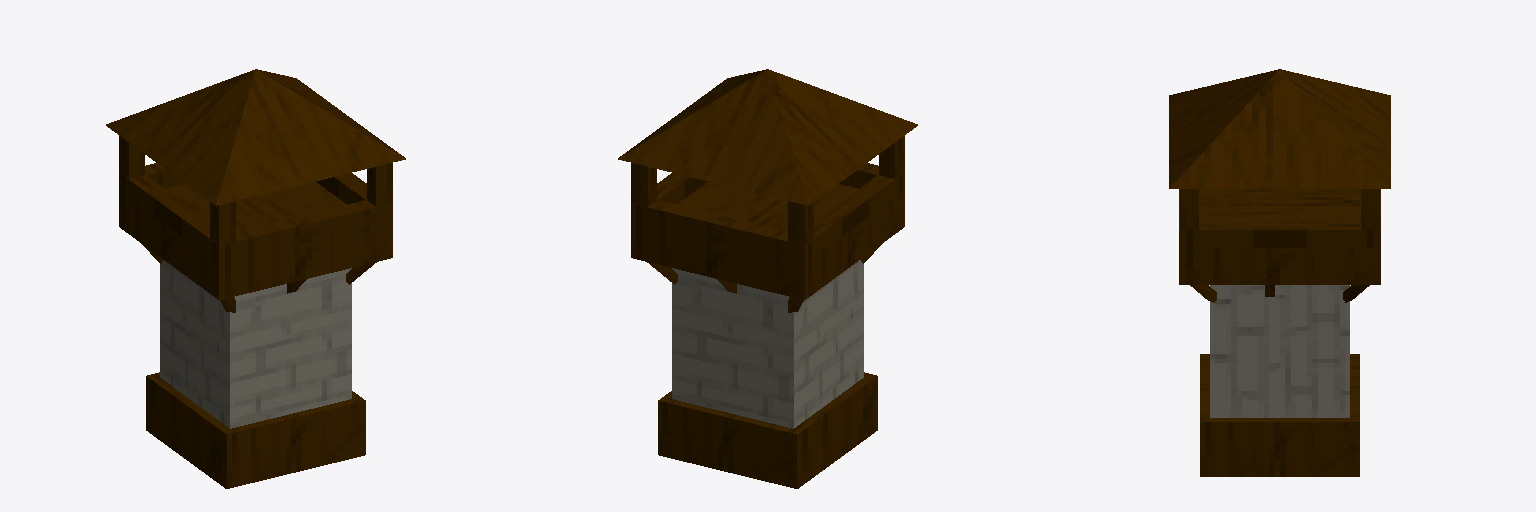
3 renders of one model, left to right at view 1: azimuth 30°, elevation 25°; view 2: azimuth 150°, elevation 25°; view 3: azimuth 270°, elevation 25°, orthographic.
Parts seen in each view (by area): view 1: cuboid, pyramid; view 2: cuboid, pyramid; view 3: cuboid, pyramid.
Boxes of the visible parts, x1,y1,x2,y2 form: cuboid: [119, 136, 392, 488]; pyramid: [106, 69, 405, 205]; cuboid: [631, 136, 904, 488]; pyramid: [618, 69, 917, 205]; cuboid: [1179, 189, 1380, 476]; pyramid: [1169, 69, 1390, 188].
Bounding box in the file's own units: 1.38 × 2.56 × 1.38.
Materials: 2 (2 with a texture image).